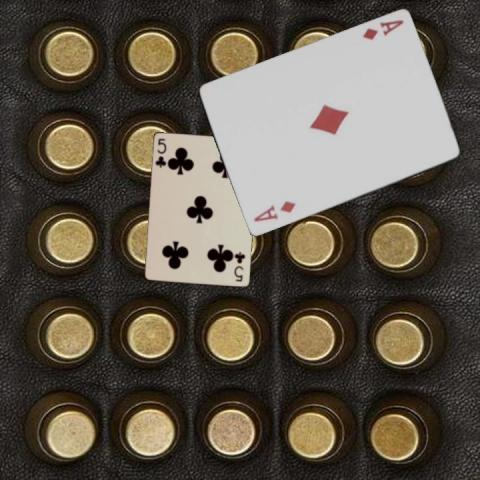5c: (232, 249, 247, 283), (153, 136, 168, 169)
Ad: (251, 198, 297, 224), (360, 17, 406, 42)
